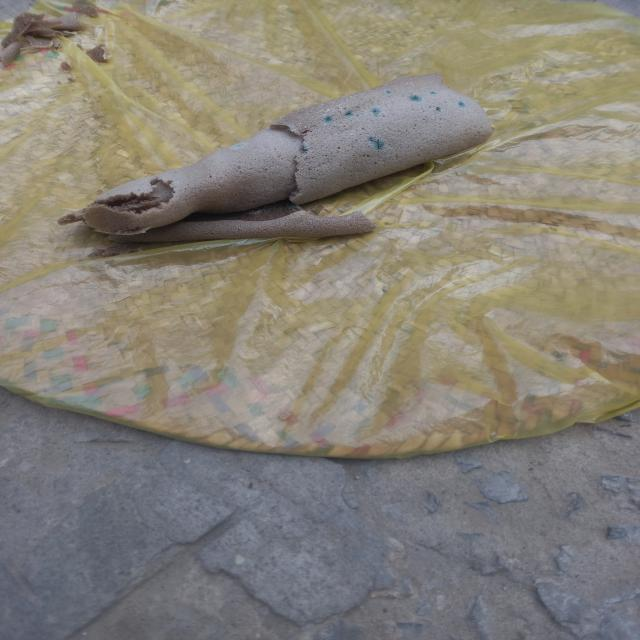injera_mold: (367, 133, 388, 152), (296, 141, 314, 158), (342, 107, 356, 118), (456, 100, 467, 112), (338, 94, 364, 99), (409, 94, 420, 104), (432, 105, 442, 115), (322, 114, 332, 124), (370, 108, 384, 115), (382, 87, 392, 96), (230, 144, 246, 148), (429, 91, 436, 93)
